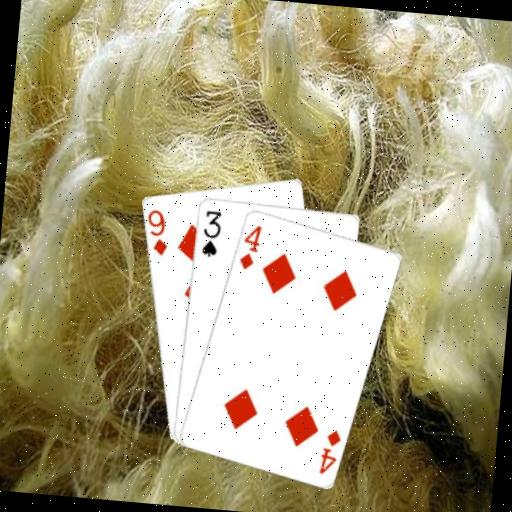3S: (198, 207, 224, 259)
4D: (235, 221, 263, 273), (316, 425, 344, 477)
9D: (141, 205, 172, 258)
